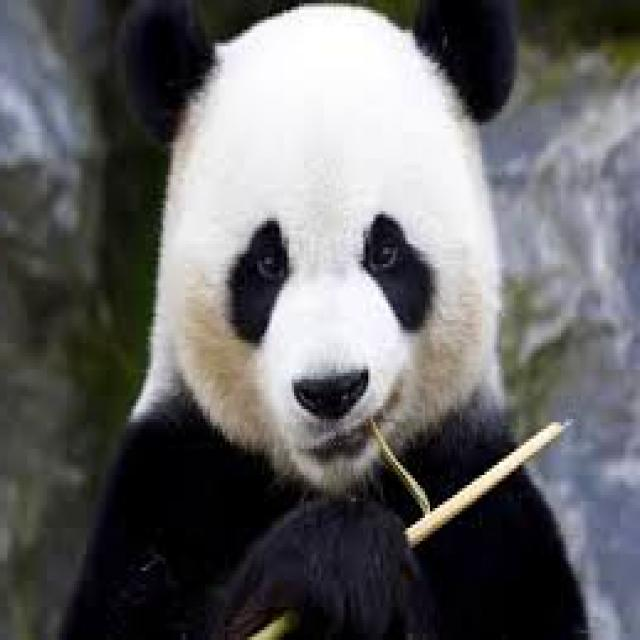panda: (62, 0, 588, 637)
